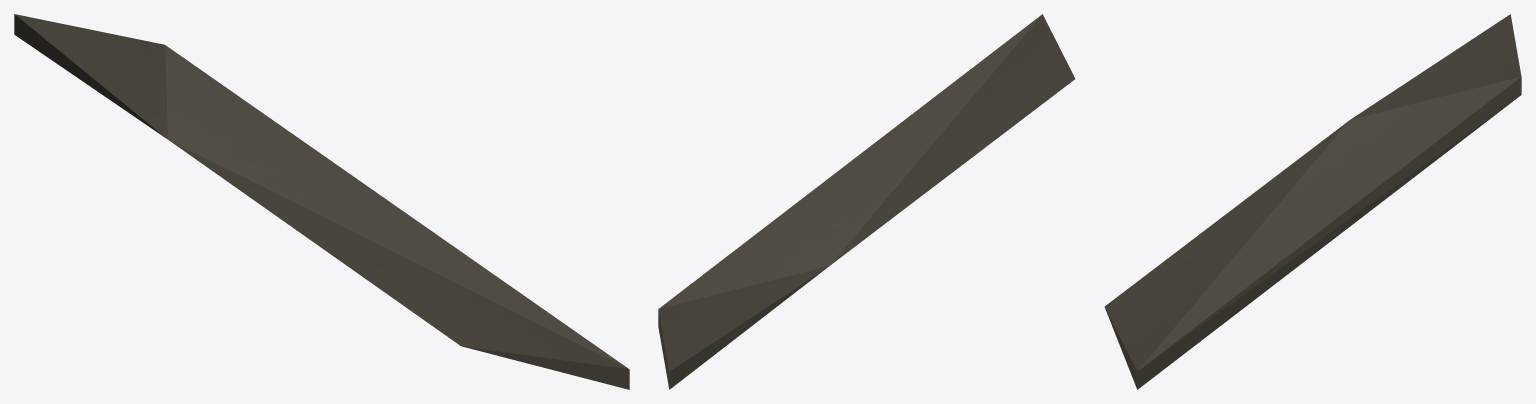
Rendered from Wood_1F_LOD.fbx.
The picture shows the model from 3 angles, left to right: view 1: azimuth 30°, elevation 25°; view 2: azimuth 150°, elevation 25°; view 3: azimuth 330°, elevation 25°; orthographic projection. The views are drawn at different scales.
Visible parts, largest first — view 1: pCube996; view 2: pCube996; view 3: pCube996.
Boxes of the visible parts, box(x1,y1,x2,y2) form: pCube996: box(14, 14, 629, 389); pCube996: box(658, 14, 1075, 389); pCube996: box(1104, 14, 1521, 389).
Bounding box in the file's own units: 0.45 × 0.08 × 3.64.
